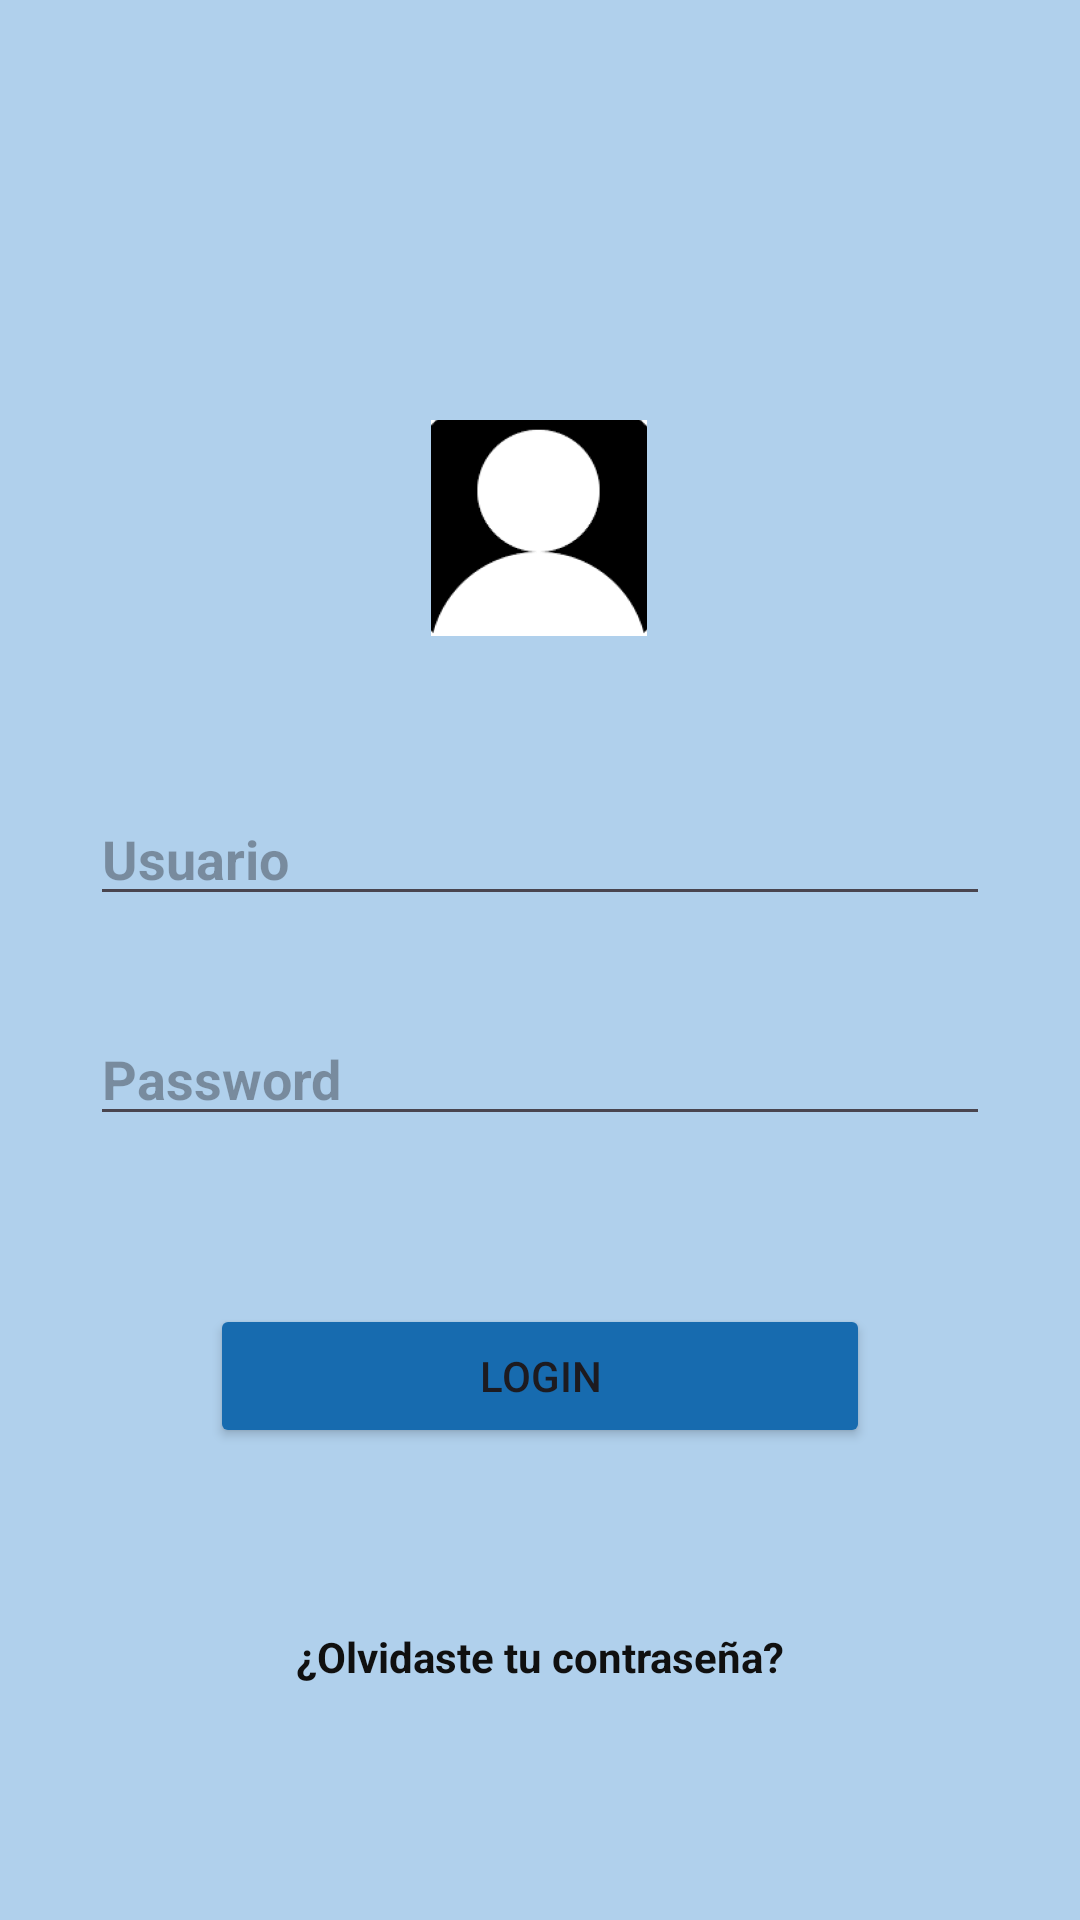

Where to tap for icons on this 1080*1920 app screen, as [x,y]:
usuario: [539,528]
